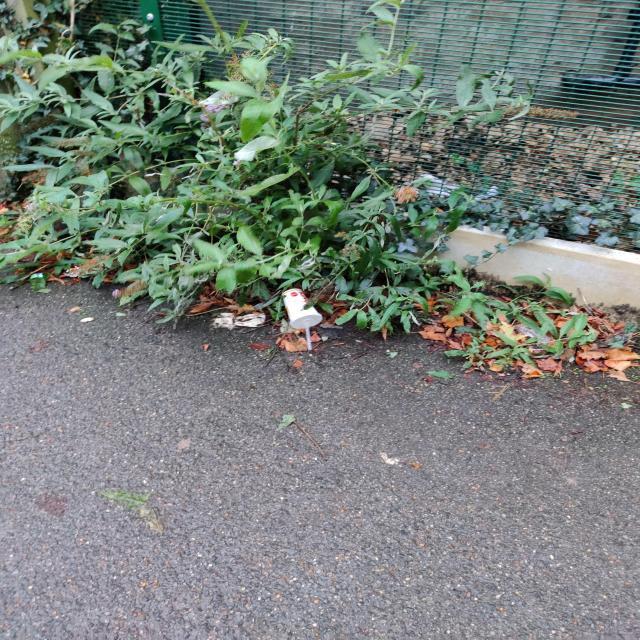litter: (281, 293, 319, 322), (230, 139, 275, 157)
